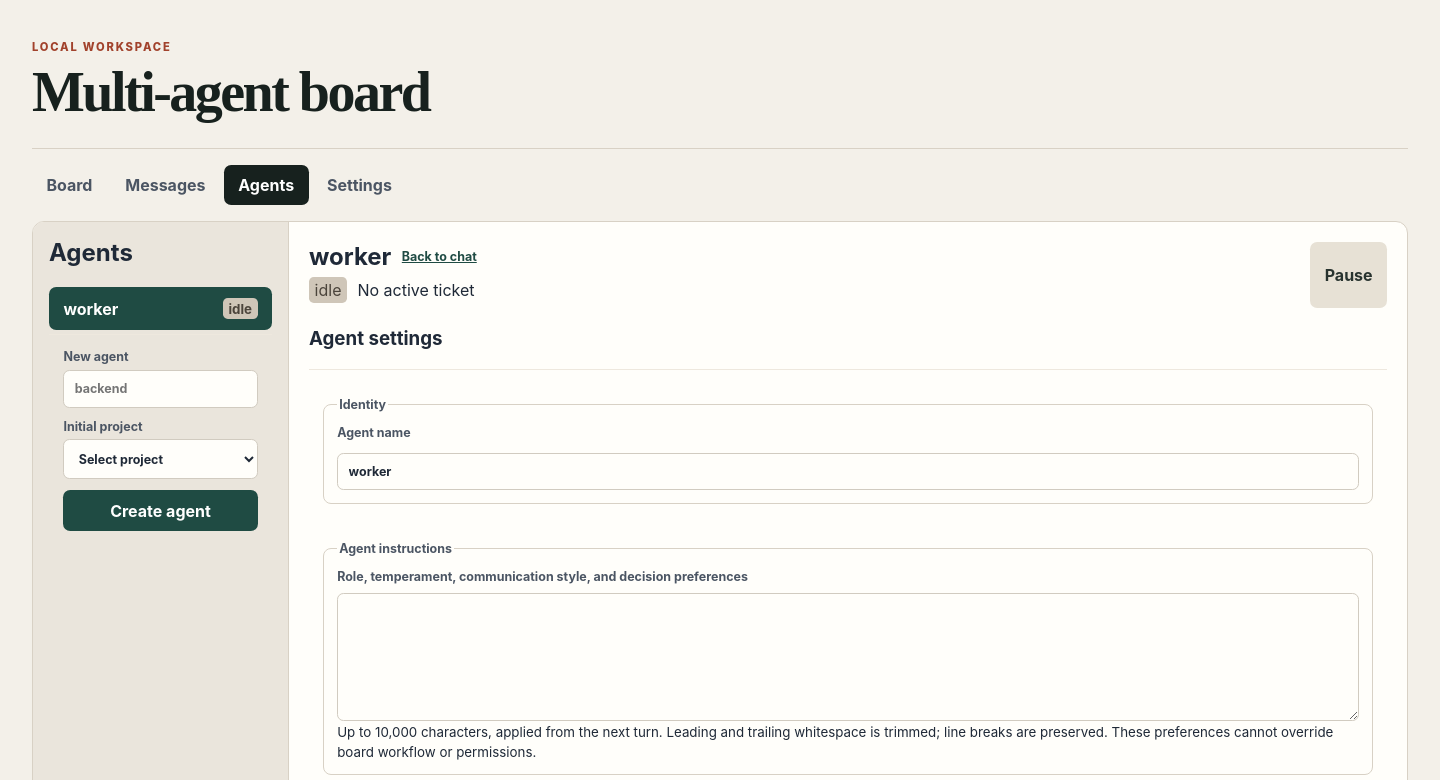
Test: App agent routes › refreshes history when chat becomes visible after a completion
Check: the heading "Agent settings" is shown, box left=309, top=327, right=442, bottom=350
Step 1. Click the link "Back to chat" → (439, 257), box left=402, top=249, right=477, bottom=264
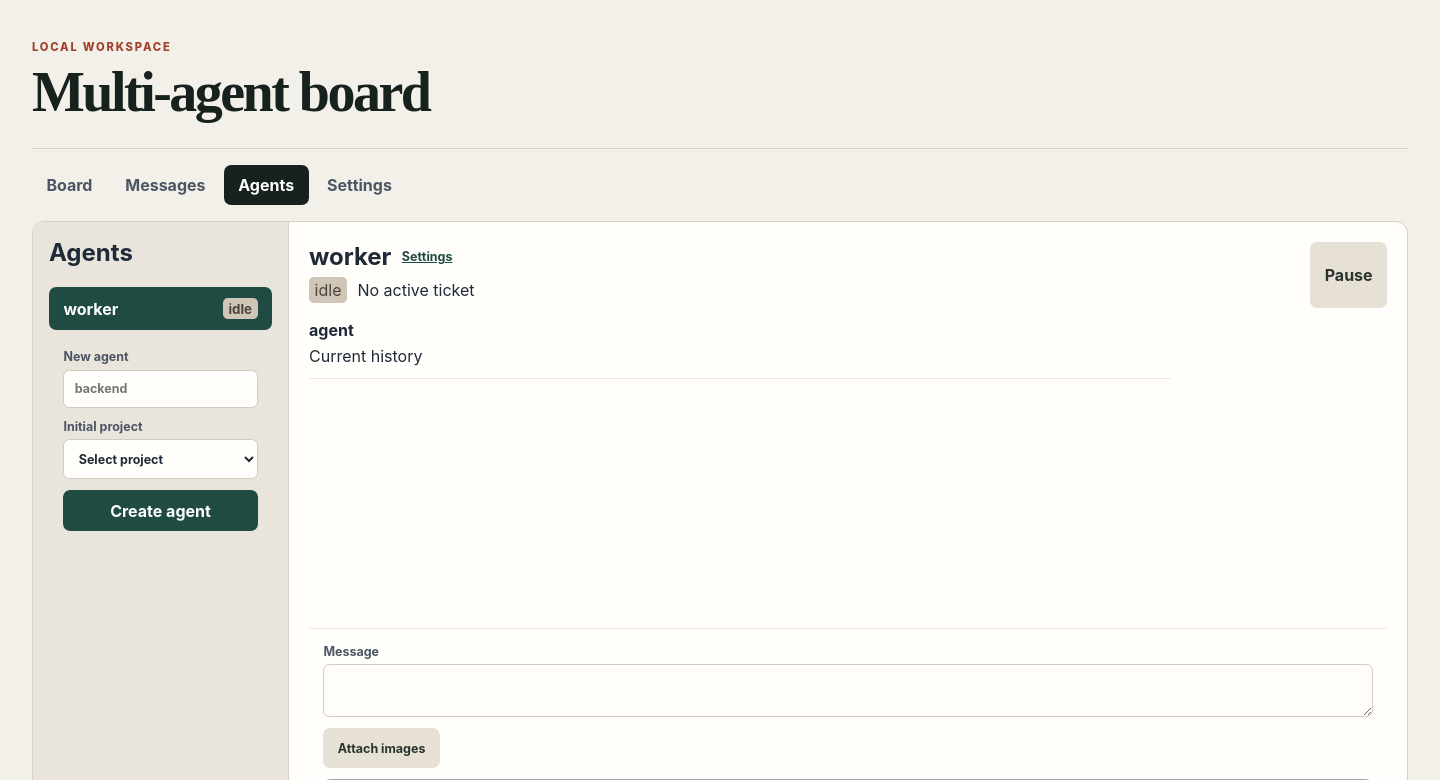
Check: the text "Current history" is shown, box left=309, top=346, right=422, bottom=366
